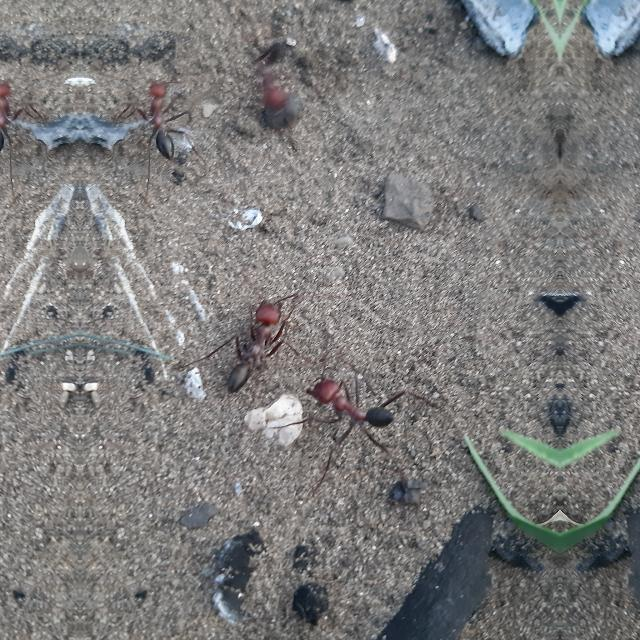Cataglyphis: (214, 287, 292, 403), (302, 358, 400, 448), (136, 72, 190, 174), (0, 72, 24, 174)
